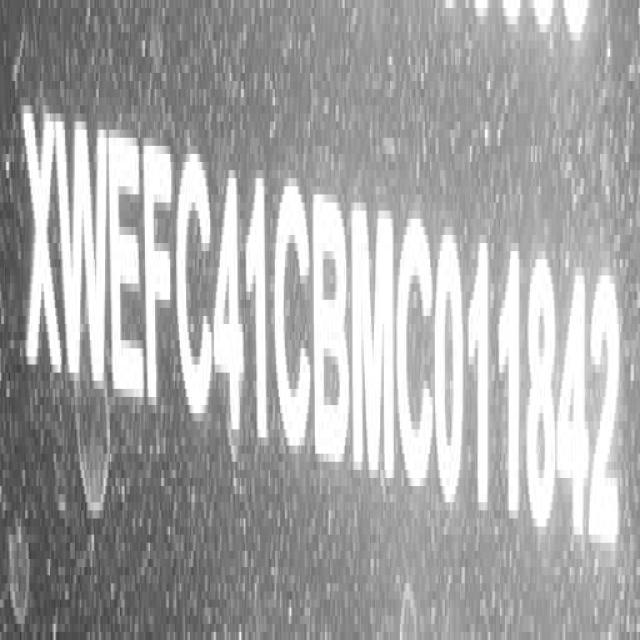0: (436, 213, 464, 511)
1: (468, 221, 490, 521), (248, 156, 270, 452), (501, 230, 522, 530)
2: (590, 268, 621, 562)
4: (214, 155, 246, 450), (560, 252, 588, 550)
8: (528, 238, 557, 537)
B: (314, 178, 349, 478)
C: (395, 207, 435, 502), (273, 162, 311, 460), (178, 133, 215, 434)
E: (111, 112, 145, 414)
F: (142, 129, 174, 430)
M: (353, 186, 398, 494)
W: (56, 91, 110, 411)
X: (21, 90, 62, 399)
